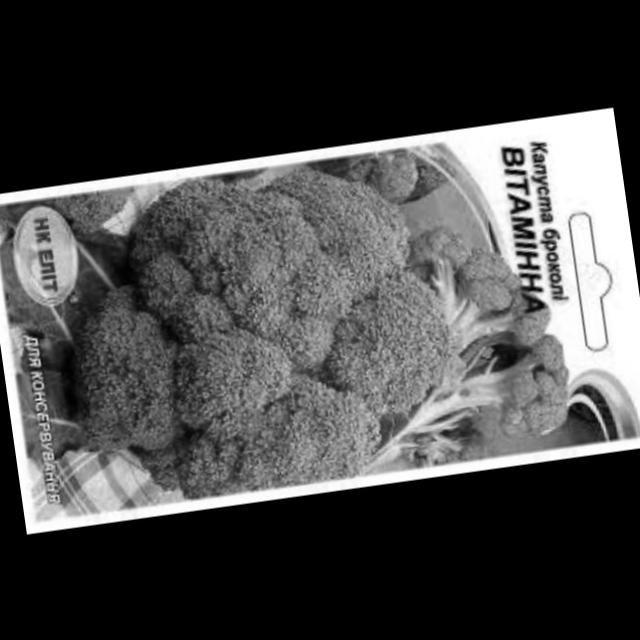broccoli: (61, 155, 480, 488), (402, 235, 584, 466)
